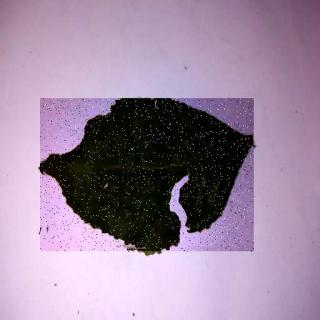Bird Eye Spot: (42, 100, 256, 254)
